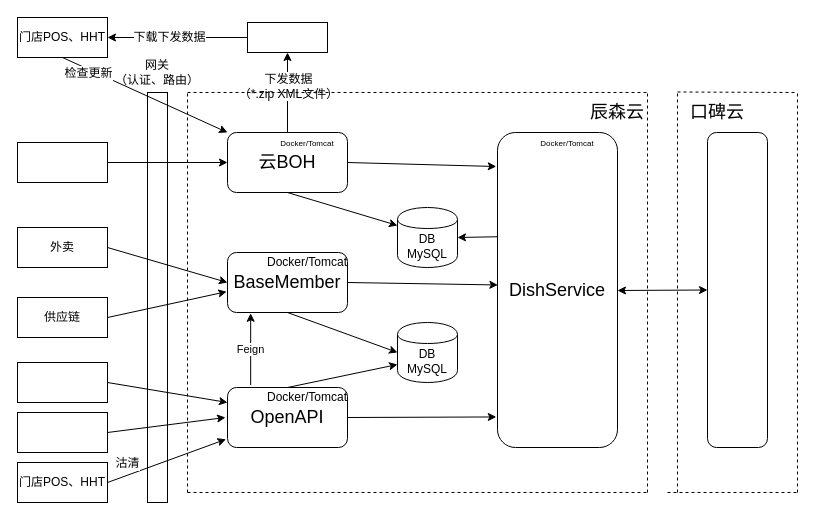
Image size: 816x520. Some labels were removed from this diagram. Each missing label, with the centre of its shape:
PaaS: (737,290)
云BOH Web: (62,162)
扫码点餐 小程序: (62,382)
自外卖: (62,432)
阿里OSS: (287,37)
